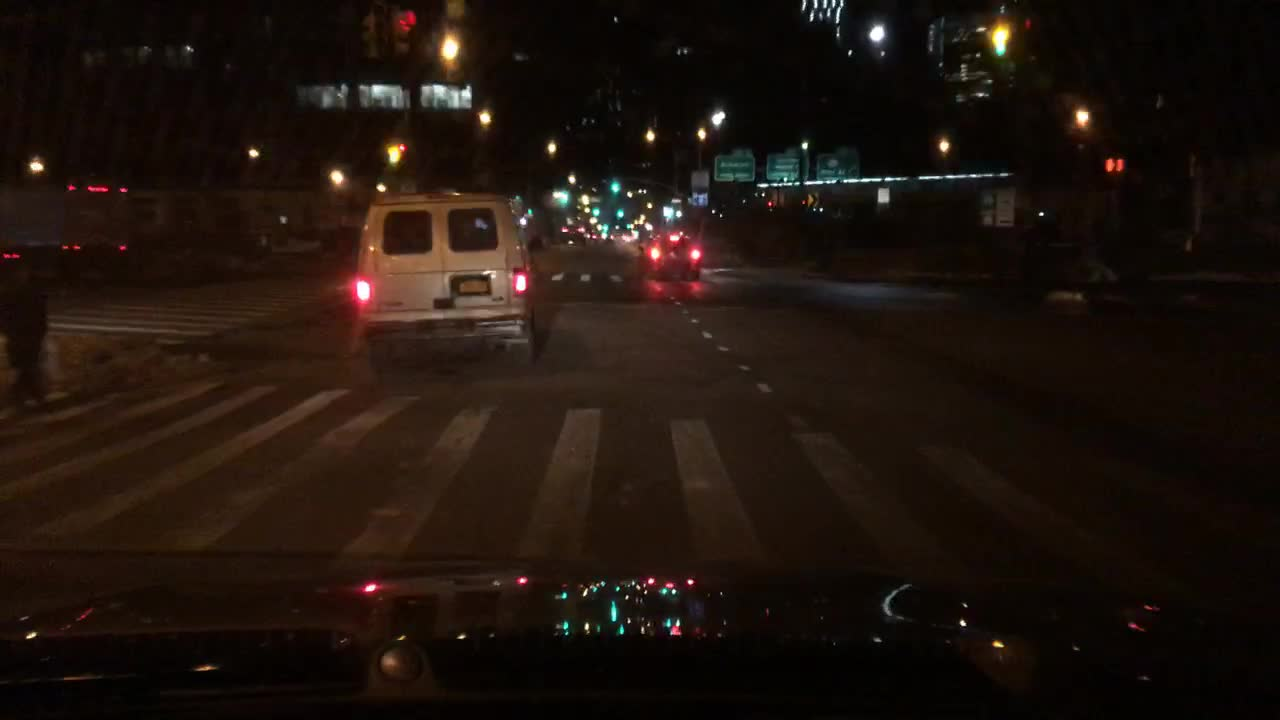car: (349, 191, 538, 368), (645, 230, 701, 281), (558, 220, 583, 244), (606, 229, 634, 245)
traffic light: (358, 4, 380, 64), (390, 6, 411, 62), (1020, 11, 1040, 62), (1101, 152, 1126, 182), (609, 173, 621, 194), (556, 188, 568, 206), (613, 205, 627, 220), (589, 202, 598, 218), (598, 221, 610, 233)
traffic sign: (712, 146, 754, 181), (814, 149, 857, 181), (763, 151, 799, 181), (803, 189, 818, 213), (767, 188, 781, 209), (877, 187, 887, 204), (668, 196, 683, 206)
truck: (0, 178, 131, 278)
